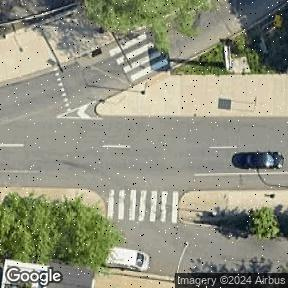vegetation: (0, 192, 126, 270), (253, 207, 280, 237)
